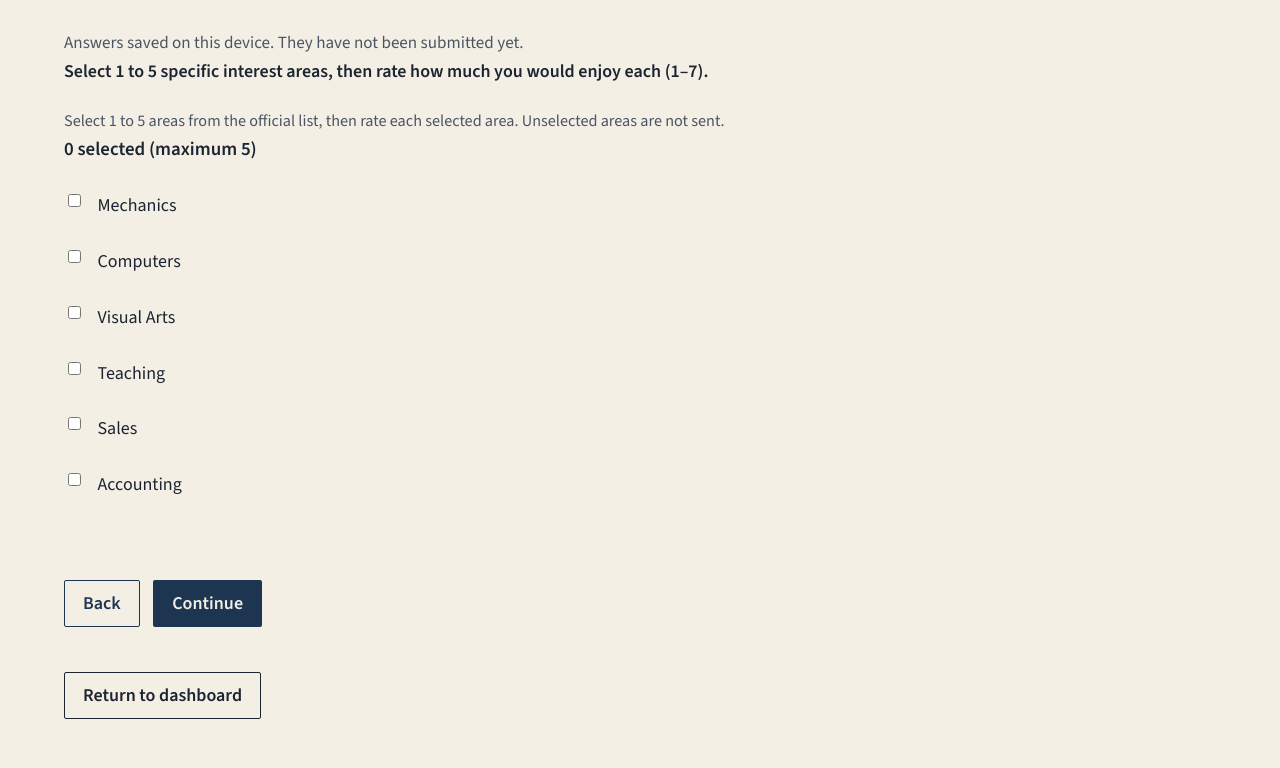
Test: requires a rating after a sparse selection
The image size is (1280, 768).
(page scrolled)
Click the checkbox labelled "Teaching" at (74, 368), box x1=68 y1=362 x2=81 y2=375
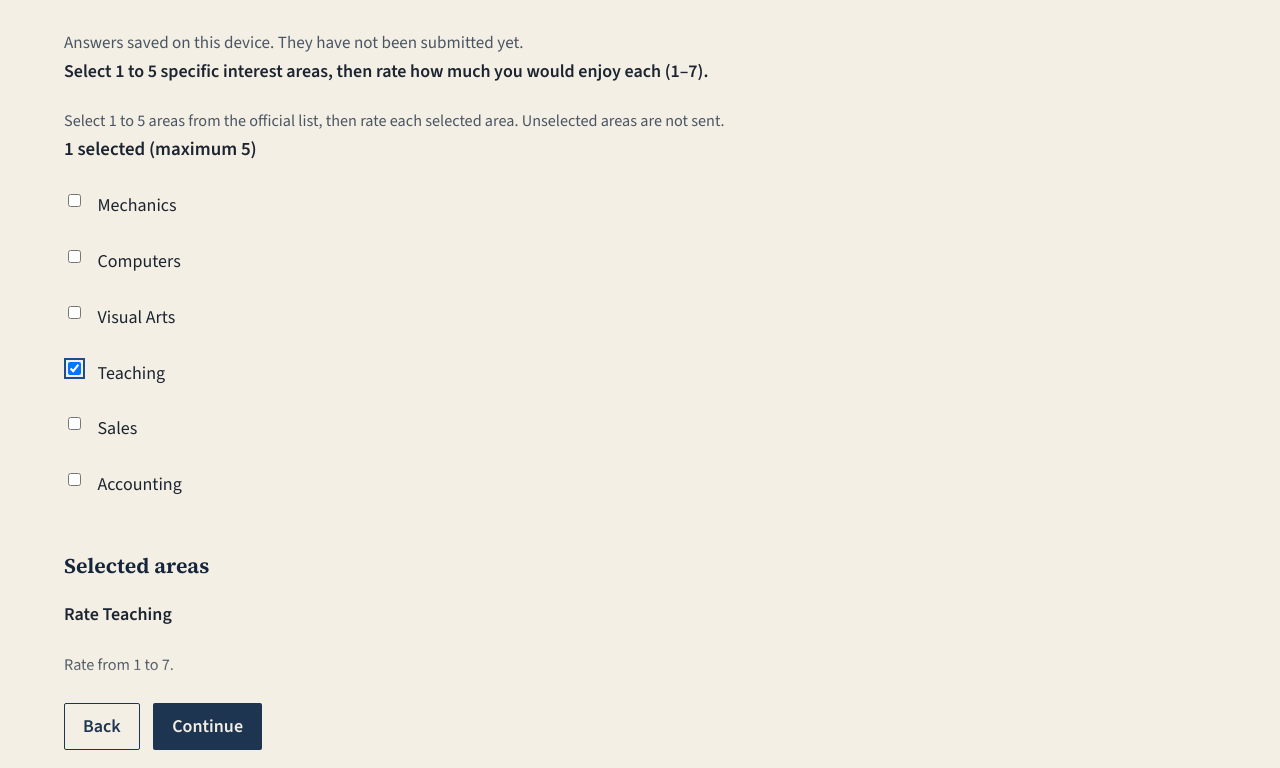
Click the button "Continue" at (208, 726), box x1=153 y1=703 x2=262 y2=750
(page scrolled)
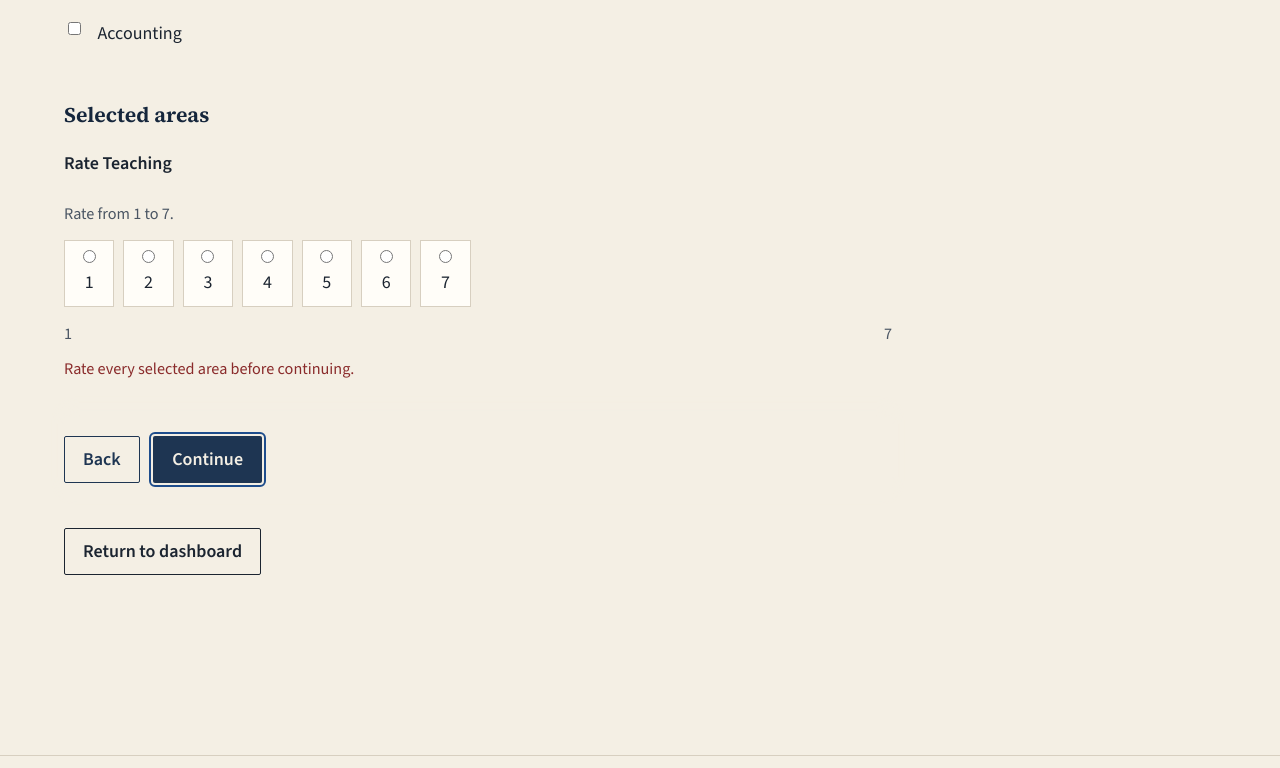
Check: the message reads "Rate every selected area before continuing.", box x1=64 y1=358 x2=354 y2=379
